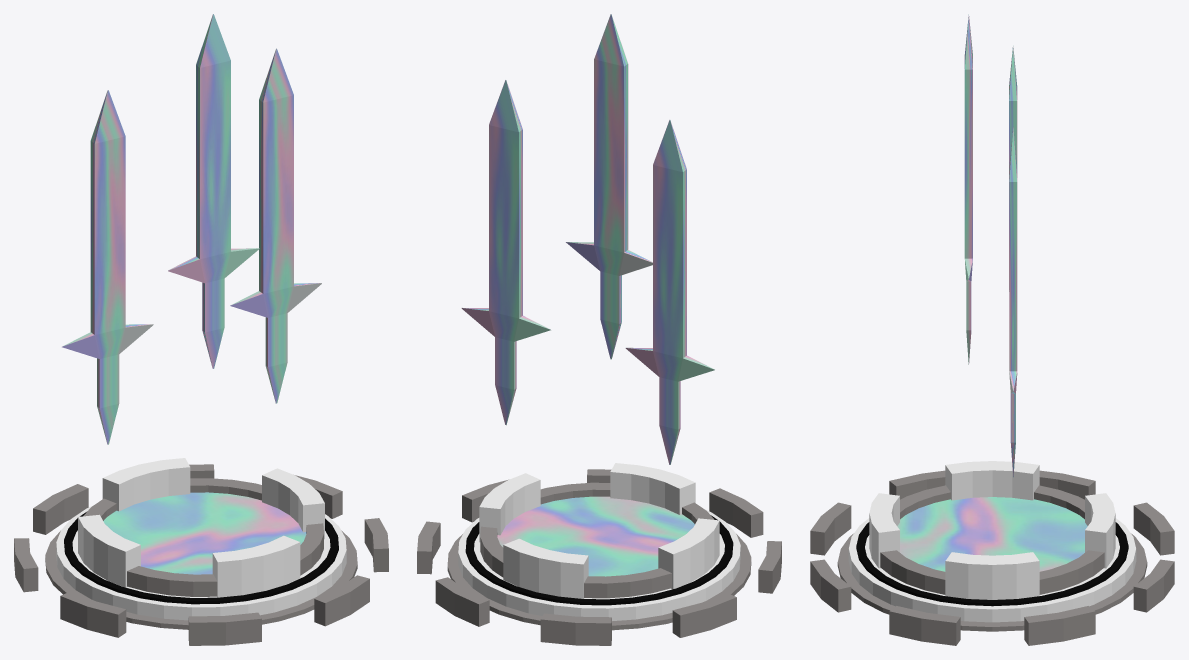
The model's file is HologramSwords.fbx.
3 renders of one model, left to right at view 1: azimuth 30°, elevation 25°; view 2: azimuth 150°, elevation 25°; view 3: azimuth 270°, elevation 25°, orthographic. The views are drawn at different scales.
Parts seen in each view (by area): view 1: Base.002, OuterHologram, Cube.001, Cube, Cube.002, BaseBottom, Base, Base.003, Base.004, Base.001; view 2: Base.002, OuterHologram, Cube, Cube.002, Cube.001, BaseBottom, Base, Base.003, Base.004, Base.001; view 3: OuterHologram, Base.002, BaseBottom, Base, Base.003, Base.004, Base.001, Cube.002, Cube, Cube.001.
Boxes of the visible parts, x1,y1,x2,y2 form: Base.002: [78, 458, 324, 597]; OuterHologram: [14, 464, 388, 645]; Cube.001: [62, 90, 153, 444]; Cube: [168, 14, 259, 368]; Cube.002: [230, 48, 321, 403]; BaseBottom: [103, 492, 306, 574]; Base: [56, 506, 346, 620]; Base.003: [83, 478, 323, 596]; Base.004: [64, 512, 338, 604]; Base.001: [45, 530, 357, 629]; Base.002: [479, 463, 719, 598]; OuterHologram: [417, 469, 781, 645]; Cube: [566, 14, 652, 359]; Cube.002: [461, 80, 550, 425]; Cube.001: [625, 120, 714, 464]; BaseBottom: [497, 496, 694, 576]; Base: [458, 509, 740, 620]; Base.003: [480, 482, 714, 598]; Base.004: [465, 515, 733, 605]; Base.001: [447, 534, 751, 630]; OuterHologram: [810, 470, 1174, 645]; Base.002: [869, 461, 1115, 599]; BaseBottom: [897, 497, 1087, 571]; Base: [848, 518, 1136, 622]; Base.003: [880, 485, 1104, 594]; Base.004: [856, 522, 1128, 606]; Base.001: [837, 533, 1147, 631]; Cube.002: [1009, 127, 1017, 477]; Cube: [964, 14, 972, 364]; Cube.001: [1009, 45, 1017, 291].
Bounding box in the file's own units: 253 × 426 × 253.
4 materials, 1 textured.
